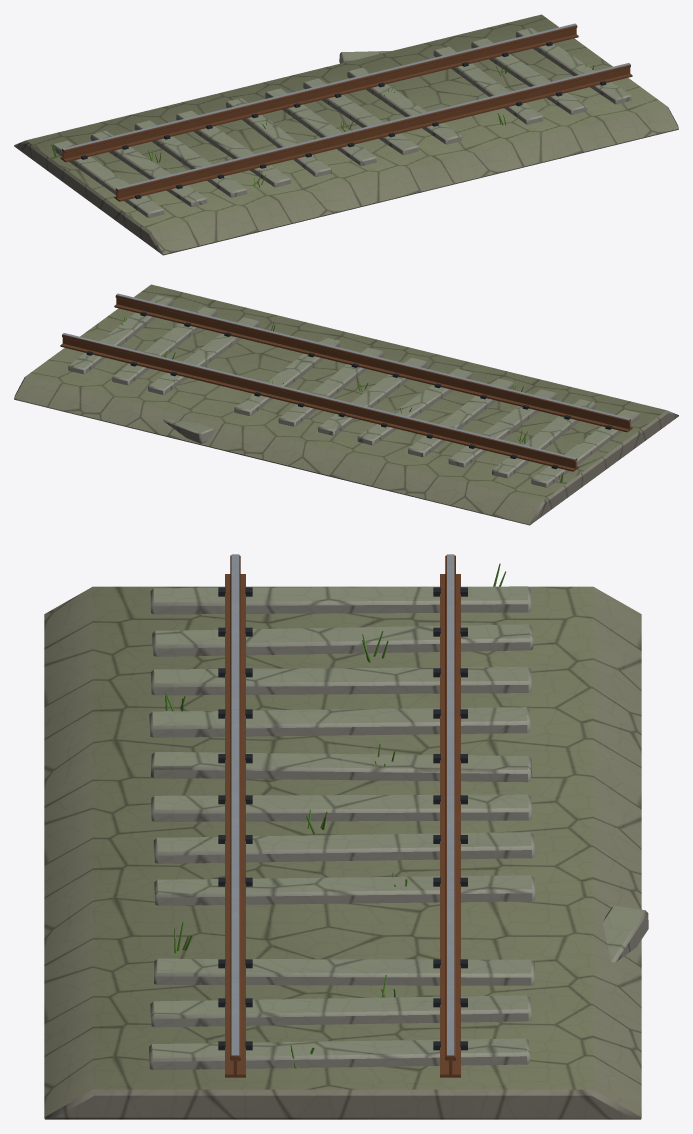
The model's file is rail_track_section.glb.
3 renders of one model, top to bottom at view 1: azimuth 30°, elevation 25°; view 2: azimuth 150°, elevation 25°; view 3: azimuth 270°, elevation 25°, orthographic. The views are drawn at different scales.
Parts seen in each view (by area): view 1: rail_track_section; view 2: rail_track_section; view 3: rail_track_section.
Boxes of the visible parts, left/top/right/bottom form: rail_track_section: left=14, top=14, right=678, bottom=255; rail_track_section: left=14, top=284, right=678, bottom=525; rail_track_section: left=44, top=554, right=648, bottom=1119.
Size of the model in its own units: 8 by 0.5108 by 4.03.
Materials: 7 (7 with a texture image).
